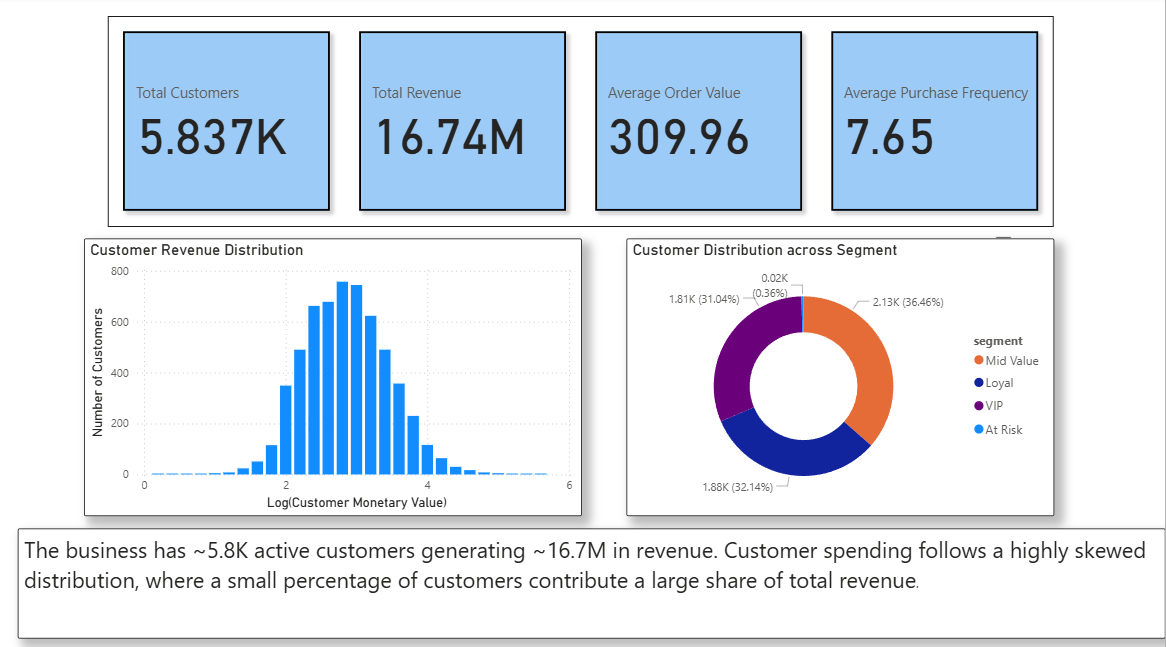

The dashboard page shown, as its layout file describes it:
{"tool":"powerbi","page":{"name":"Customer Overview","canvas":[1280,720],"ordinal":0},"visuals":[{"type":"cardVisual","fields":{"Data":["Count(customer_segments.customer_id)","Sum(customer_segments.monetary)","Avg(customer_segments.avg_order_value)","Avg(customer_segments.frequency)"]},"box":[119.4,22,1038.8,231.9],"z":0},{"type":"clusteredColumnChart","title":"Customer Revenue Distribution","fields":{"Y":["CountNonNull(customer_segments.customer_id)"],"Category":["customer_segments.Log_Monetary (bins)"]},"box":[93.3,266.2,546.1,304.6],"z":1000},{"type":"donutChart","title":"Customer Distribution across Segment","fields":{"Category":["customer_segments.segment"],"Y":["CountNonNull(customer_segments.customer_id)"]},"box":[688.9,266.2,469.3,304.6],"z":2000},{"type":"textbox","box":[20.6,584.6,1259.7,120.8],"z":2001}]}

Visuals, with their boxes in screenshot pixels (x1, y1, x2, y2), scaled from the page's 1280x720 canvas onto the 1166x647 screenshot:
cardVisual - Count(customer_segments.customer_id) x Sum(customer_segments.monetary): bbox=[109, 20, 1055, 228]
"Customer Revenue Distribution" clusteredColumnChart: bbox=[85, 239, 582, 513]
"Customer Distribution across Segment" donutChart: bbox=[628, 239, 1055, 513]
textbox: bbox=[19, 525, 1165, 634]
